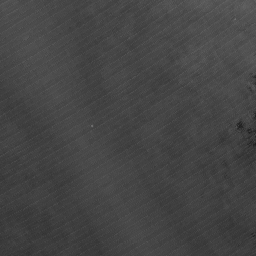Target: (88, 122, 96, 129)
